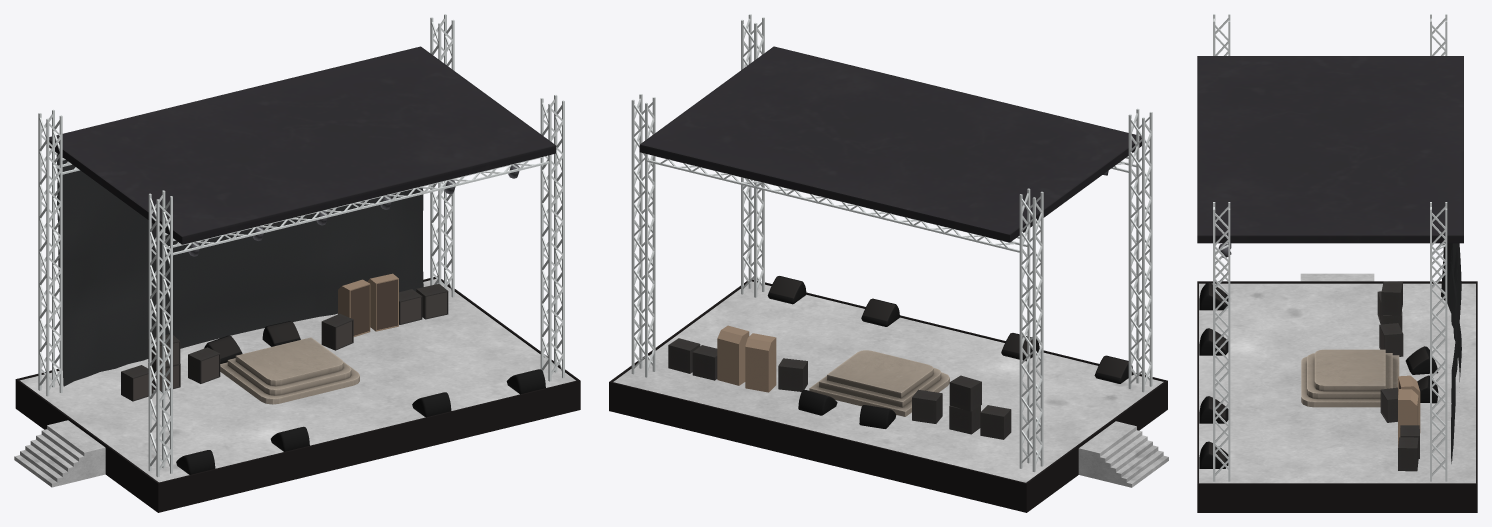
File: Escenario.obj
3 views of the same model, side by side, from view 1: azimuth 30°, elevation 25°; view 2: azimuth 150°, elevation 25°; view 3: azimuth 270°, elevation 25° (orthographic).
Visible parts, largest first — view 1: concert_stage_main_final; view 2: concert_stage_main_final; view 3: concert_stage_main_final.
Boxes of the visible parts, <box> form: concert_stage_main_final: <box>14,14,580,512</box>; concert_stage_main_final: <box>609,14,1168,512</box>; concert_stage_main_final: <box>1197,14,1477,512</box>.
Bounding box in the file's own units: 43.45 × 26.59 × 22.55.
Materials: 1 (1 with a texture image).
